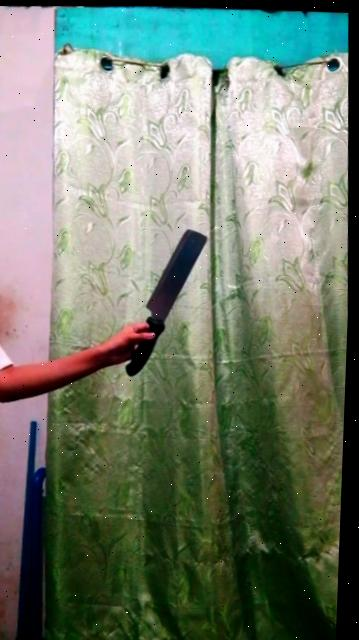long knife: (118, 226, 219, 380)
